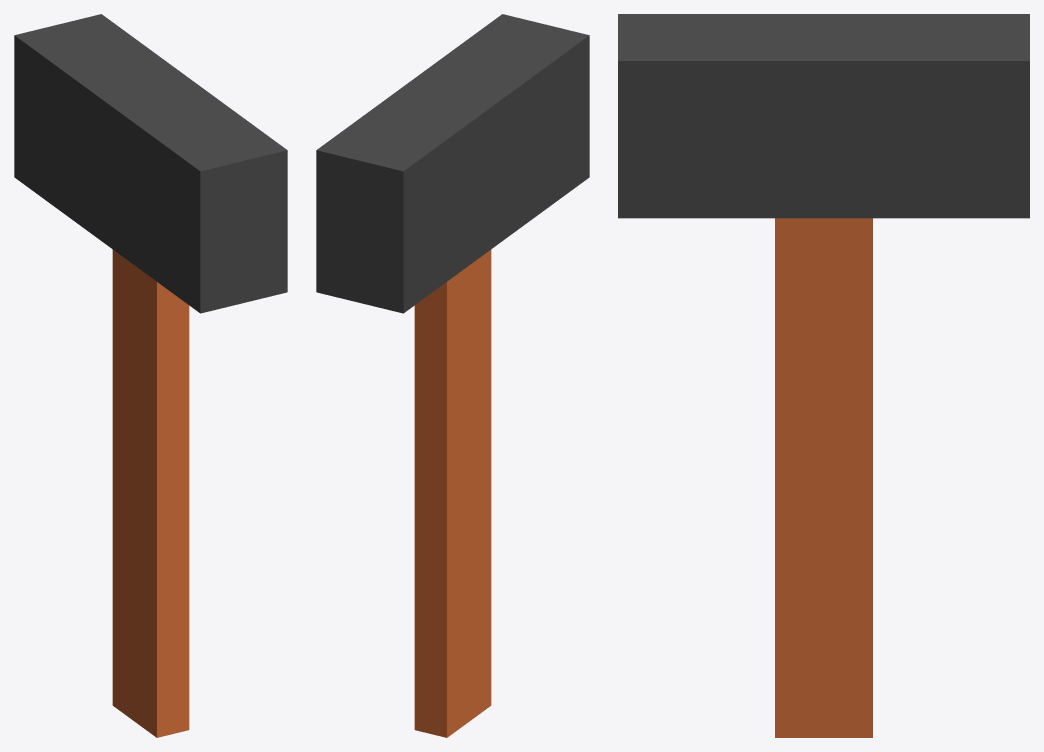
Rendered from Hammer.fbx.
The picture shows the model from 3 angles, left to right: view 1: azimuth 30°, elevation 25°; view 2: azimuth 150°, elevation 25°; view 3: azimuth 270°, elevation 25°; orthographic projection. The views are drawn at different scales.
Parts seen in each view (by area): view 1: Куб; view 2: Куб; view 3: Куб.
Part boxes in pixels (left/top/right/bottom): Куб: left=14, top=14, right=287, bottom=737; Куб: left=316, top=14, right=589, bottom=737; Куб: left=618, top=14, right=1029, bottom=737.
Bounding box in the file's own units: 5.36 × 36.76 × 19.84.
